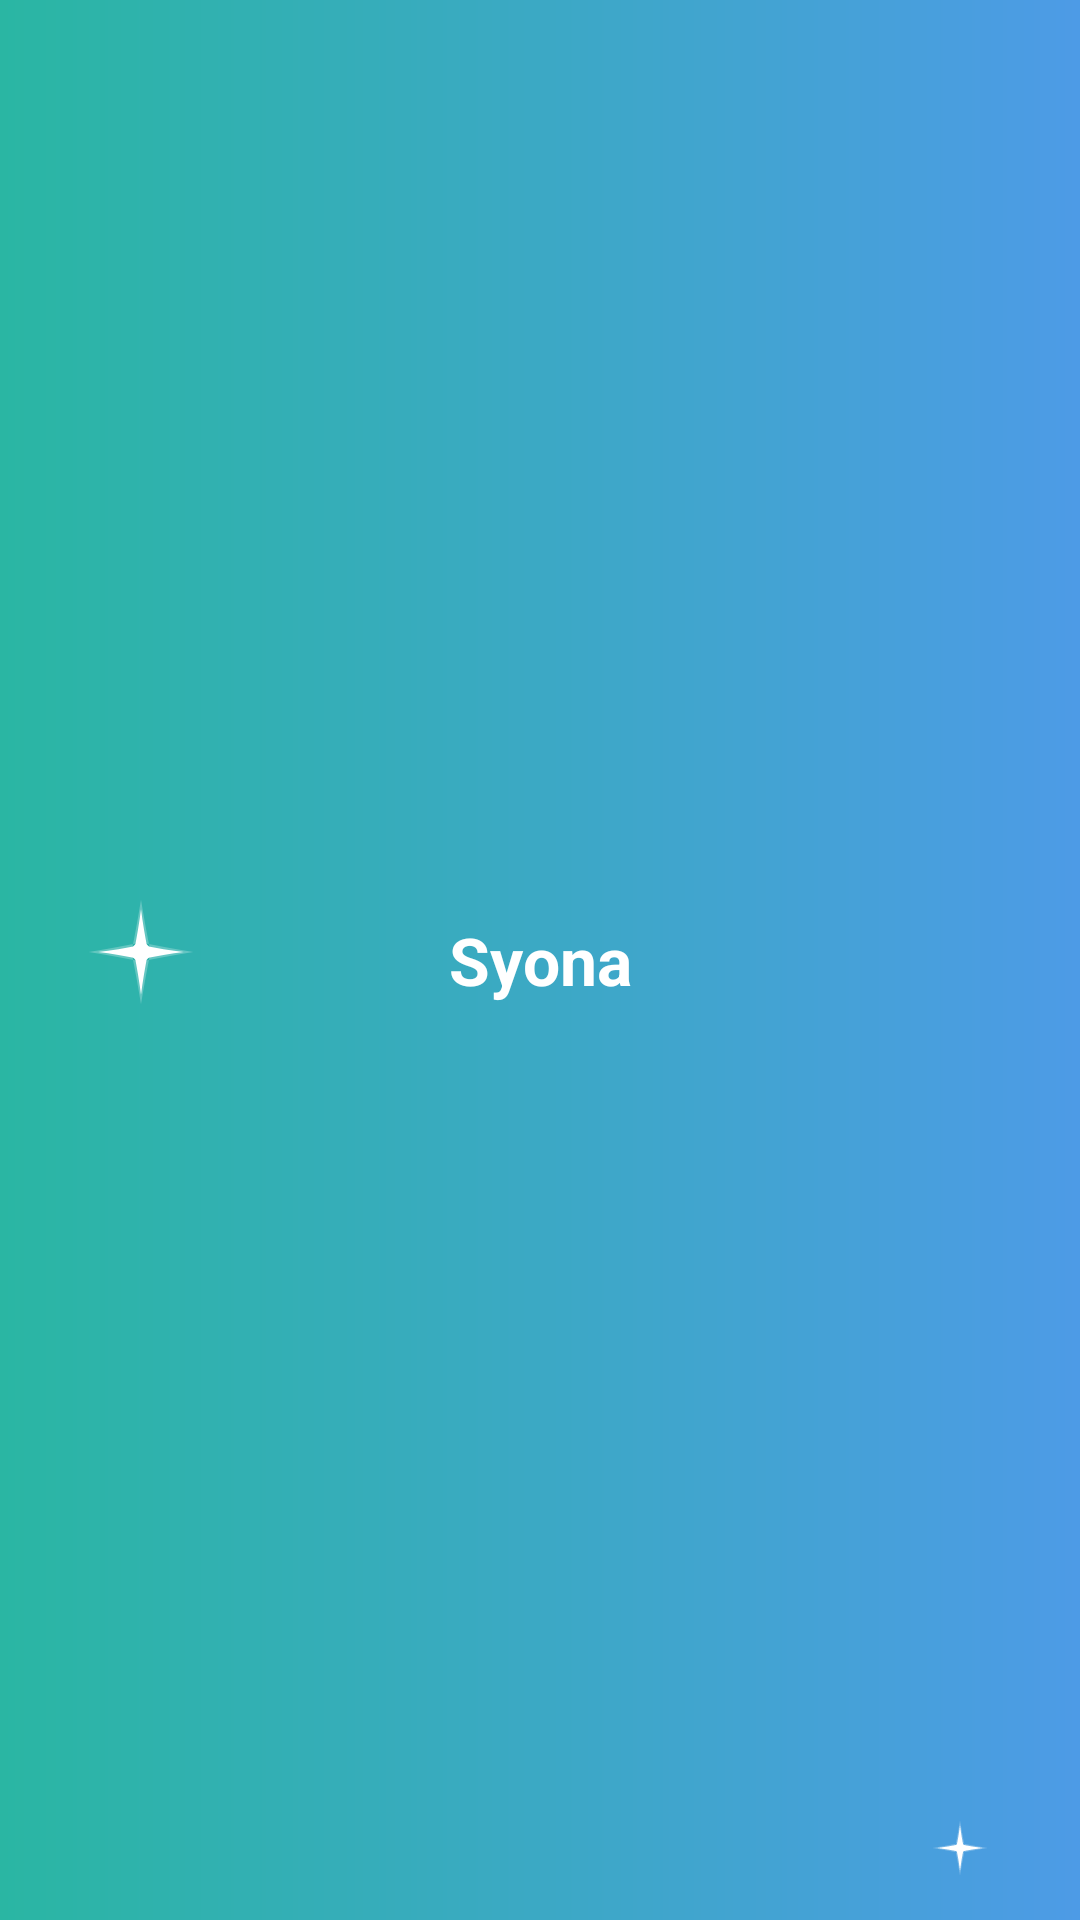

Named icons in this screenshot (1080px×1920px) and their centers, (x,y):
star twinkle: (141,952), (960,1848)
